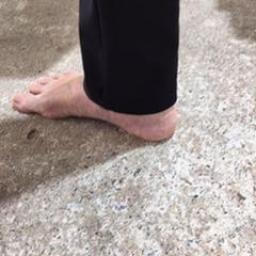Medial View -Right Foot-: (8, 30, 182, 149)
